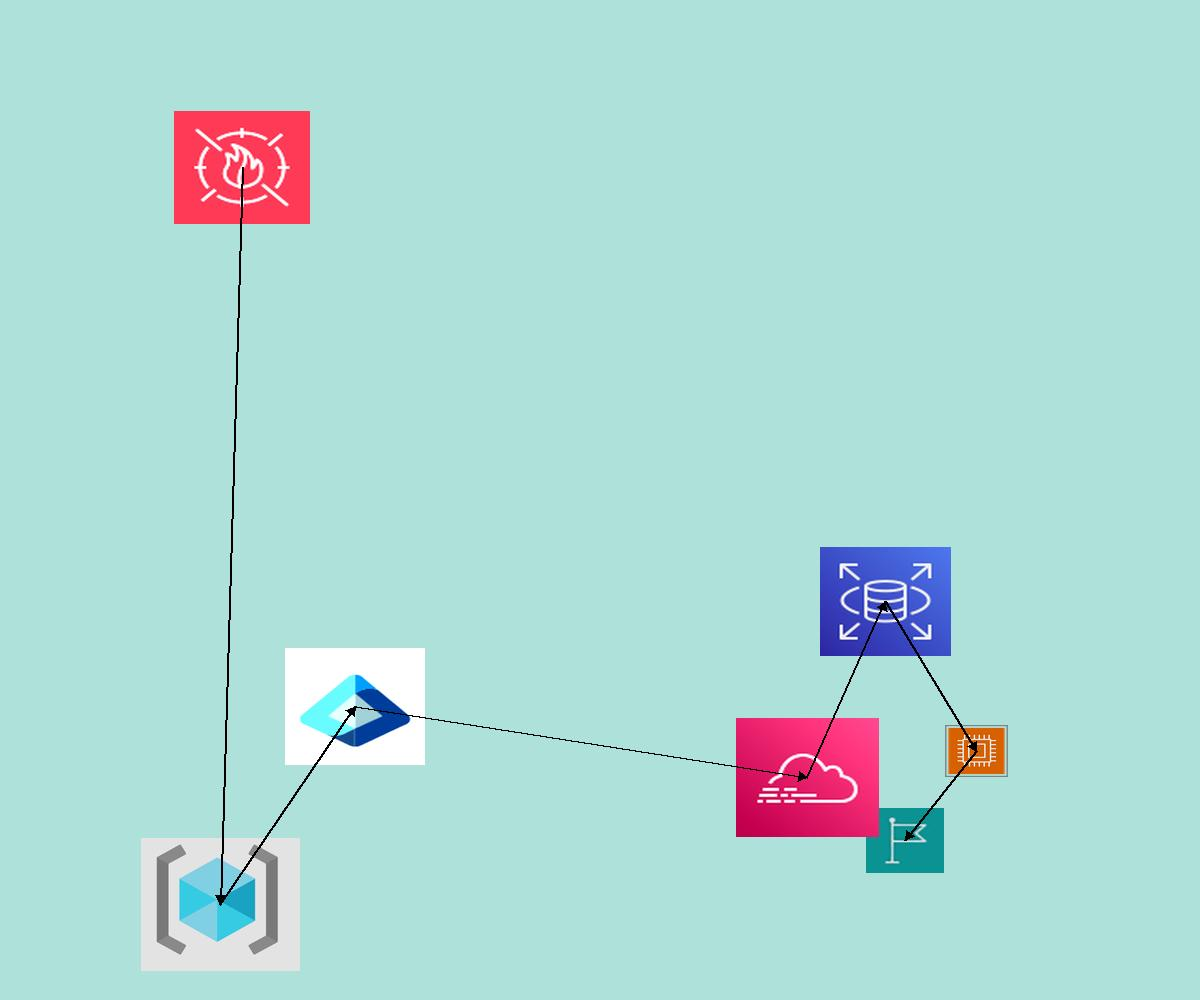AWS-Category_Compute: (945, 725, 1008, 777)
AWS-CloudTrail: (736, 718, 879, 837)
AWS-RDS: (820, 547, 951, 656)
AWS-Region: (866, 808, 944, 873)
AWS-WAF: (174, 111, 310, 224)
Azure_microsoft_entra: (285, 648, 425, 765)
Azure_resource_group: (141, 838, 300, 971)
